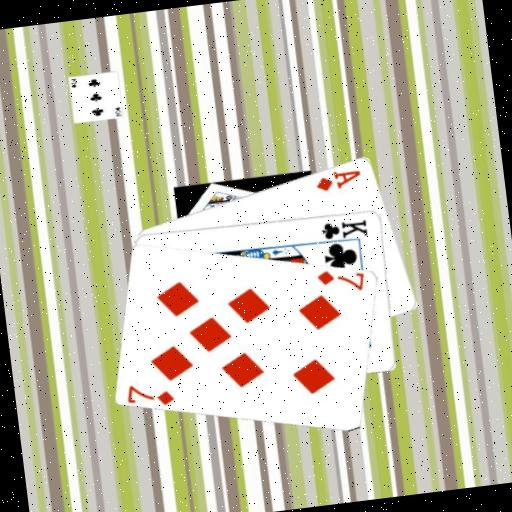7D: (313, 263, 367, 297), (124, 377, 177, 410)
AD: (312, 165, 364, 194)
KC: (313, 215, 371, 248)
